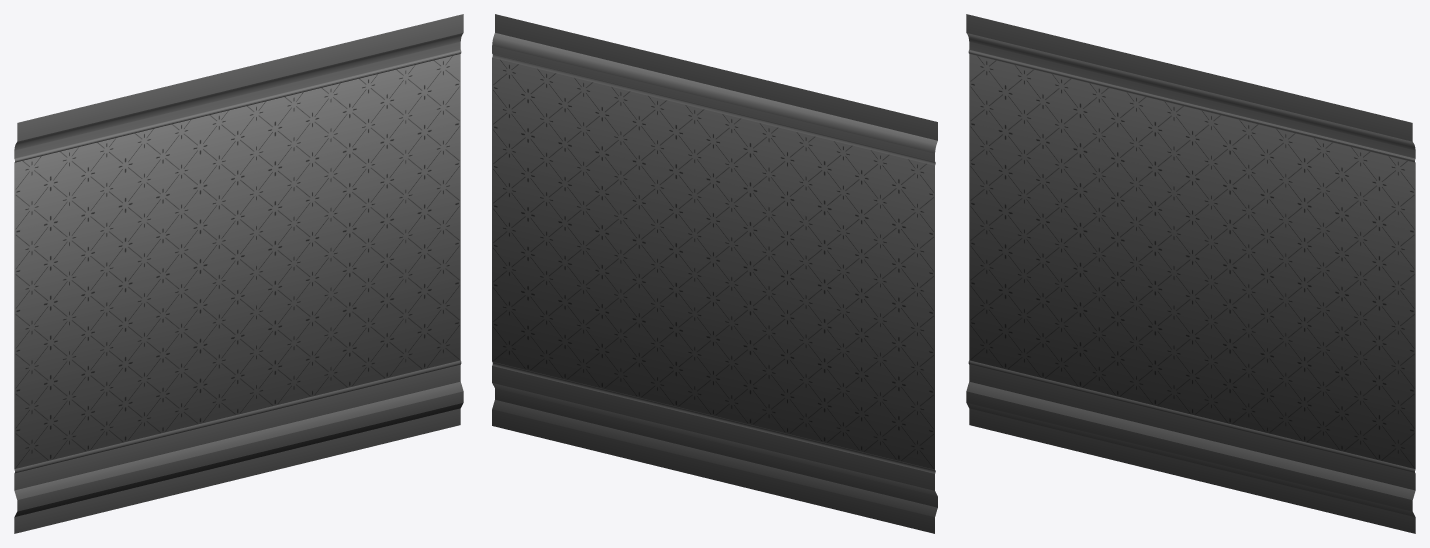
File: Wall_02_Light.fbx
3 renders of one model, left to right at view 1: azimuth 30°, elevation 25°; view 2: azimuth 150°, elevation 25°; view 3: azimuth 330°, elevation 25°, orthographic.
Parts seen in each view (by area): view 1: Wall_02_Light; view 2: Wall_02_Light; view 3: Wall_02_Light.
Boxes of the visible parts, box(x1,y1,x2,y2) form: Wall_02_Light: box(14, 14, 463, 533); Wall_02_Light: box(492, 14, 937, 533); Wall_02_Light: box(966, 14, 1415, 533).
Size of the model in its own units: 3 by 2.65 by 0.0329.
